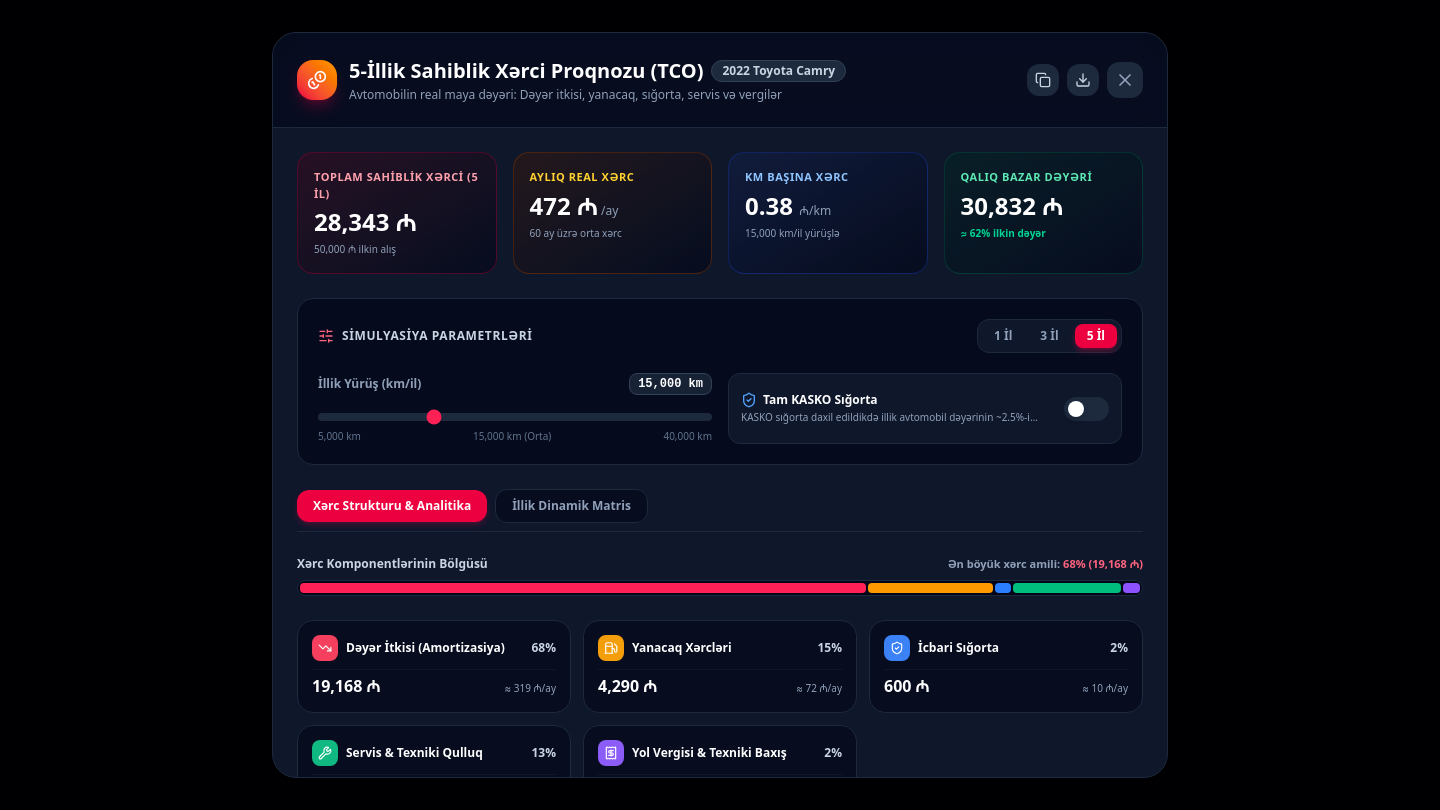
TcoForecasterModal › updates calculations when adjusting annual mileage slider
# Change mileage from 15,000 to 30,000 km
Set the slider with test id "tco-mileage-slider" to "30000" at (596, 417), box [318, 413, 712, 421]
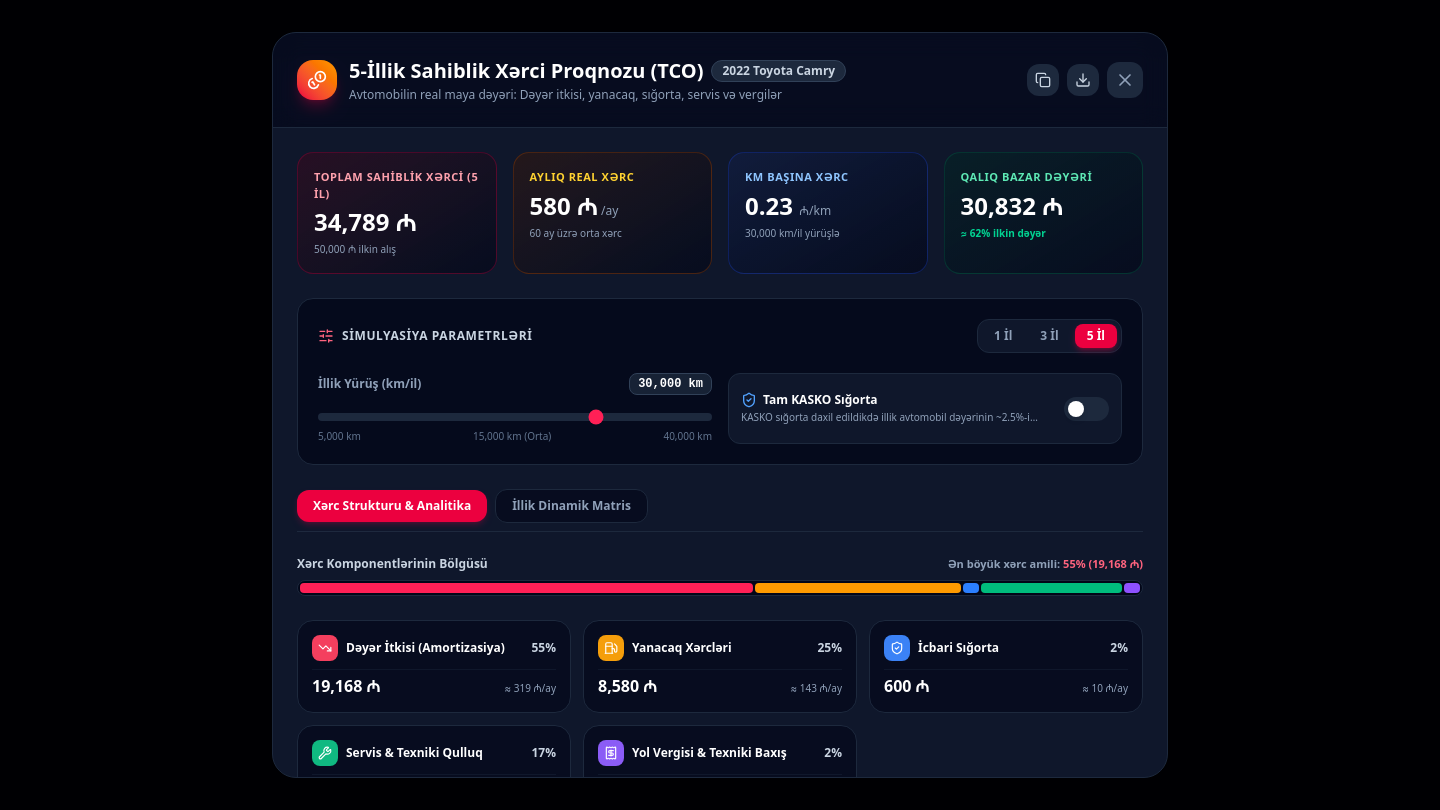
Check: the text "30,000 km" is shown, box [629, 373, 712, 395]
